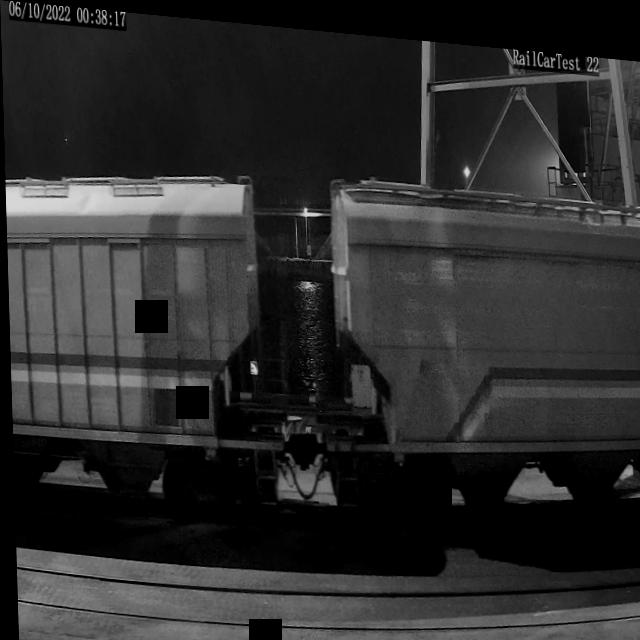hopper: (296, 149, 640, 552), (4, 140, 295, 525)
